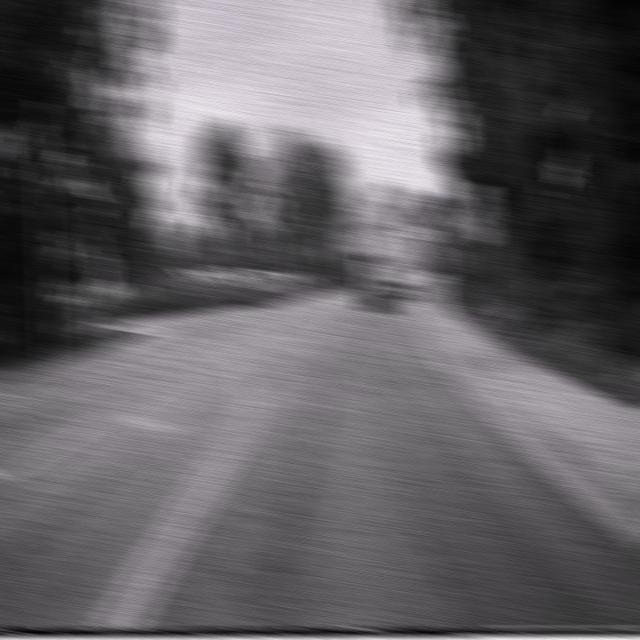speedLimit25: (467, 182, 496, 244)
